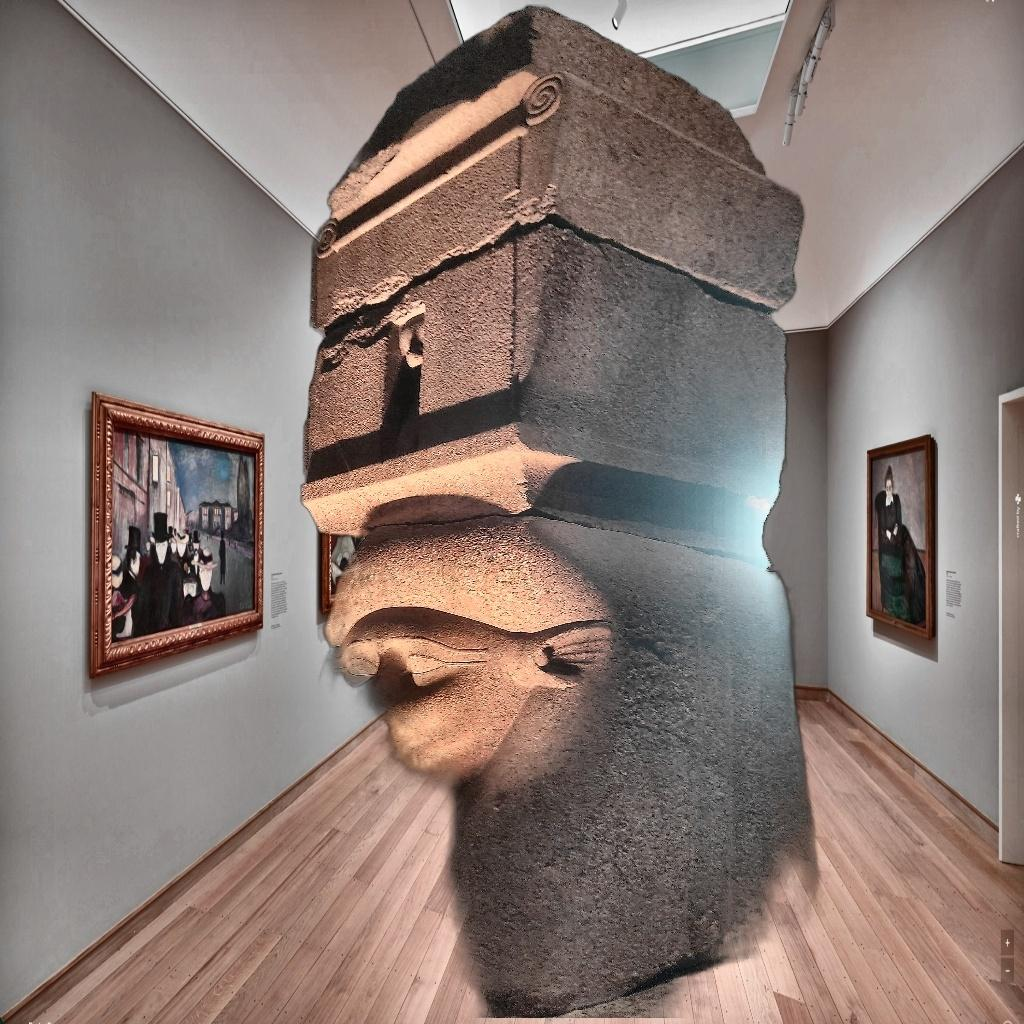Hathor Capital: (268, 4, 830, 1018)
